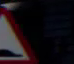Speed Breaker ahead: (1, 3, 40, 63)
